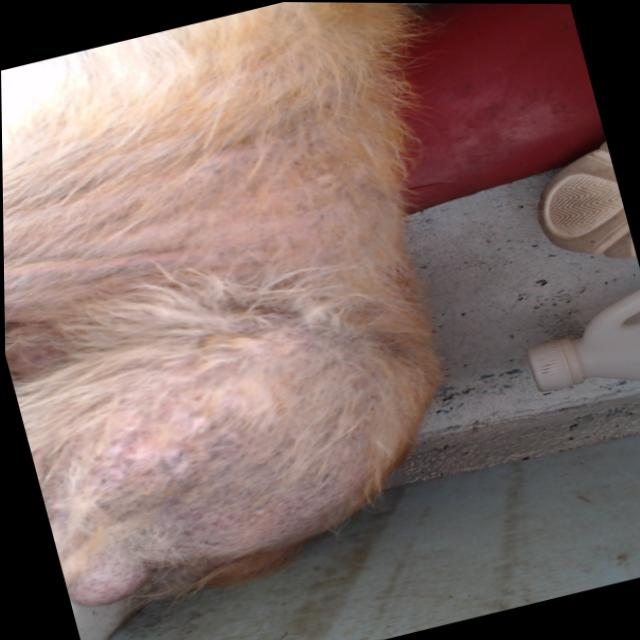demodicosis: (75, 374, 341, 578)
